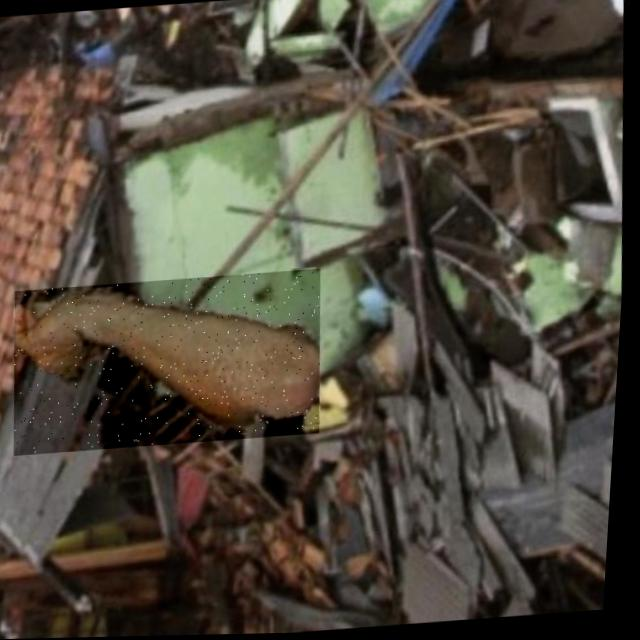Person in Rubble: (11, 269, 332, 455)
